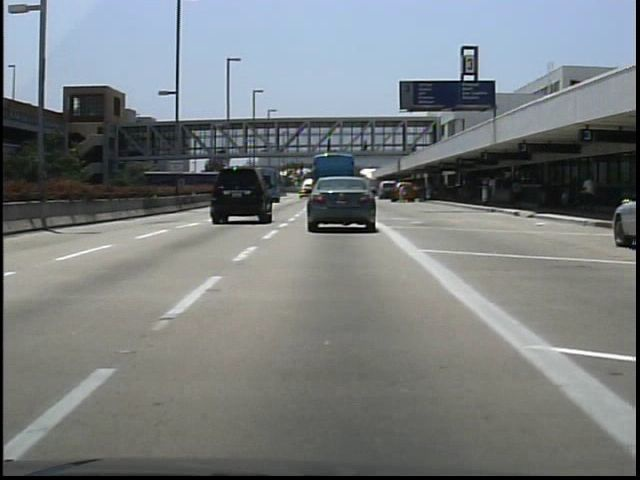person: (578, 170, 598, 216), (508, 175, 527, 214), (416, 179, 432, 206), (396, 180, 411, 207), (360, 137, 372, 159), (323, 135, 336, 155)
